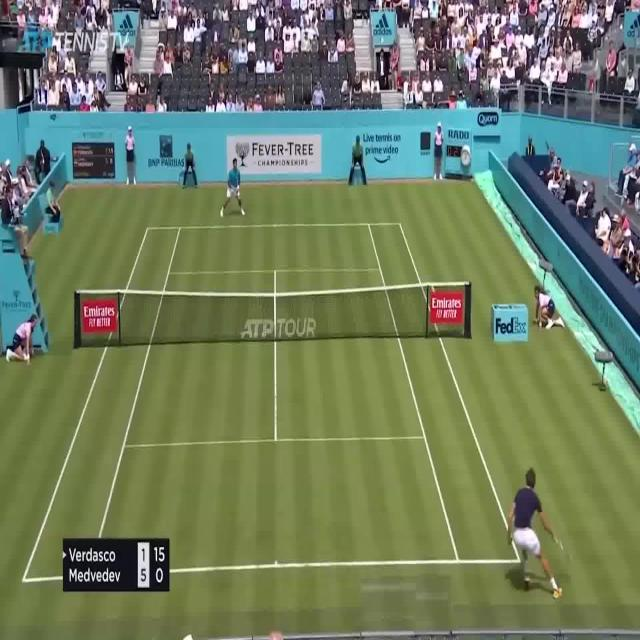bottom-dead-zone: (90, 439, 459, 574)
court: (23, 223, 523, 582)
left-doubles-alley: (24, 229, 181, 579)
left-service-box: (124, 272, 277, 446)
net: (74, 280, 473, 352)
right-doubles-alley: (368, 222, 522, 565)
right-service-box: (275, 271, 427, 441)
top-dead-zone: (169, 226, 382, 274)
